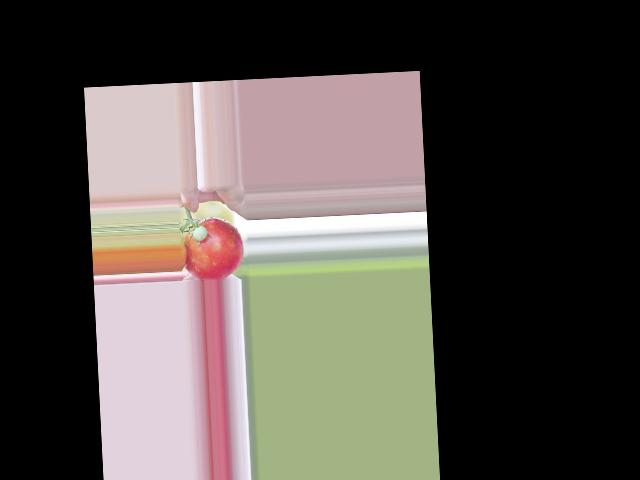tomato: (182, 215, 244, 282)
